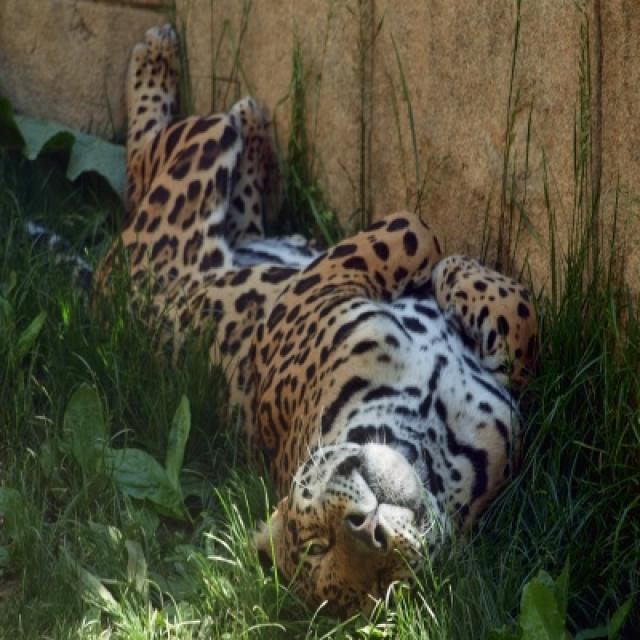Jaguar: (122, 26, 539, 622)
